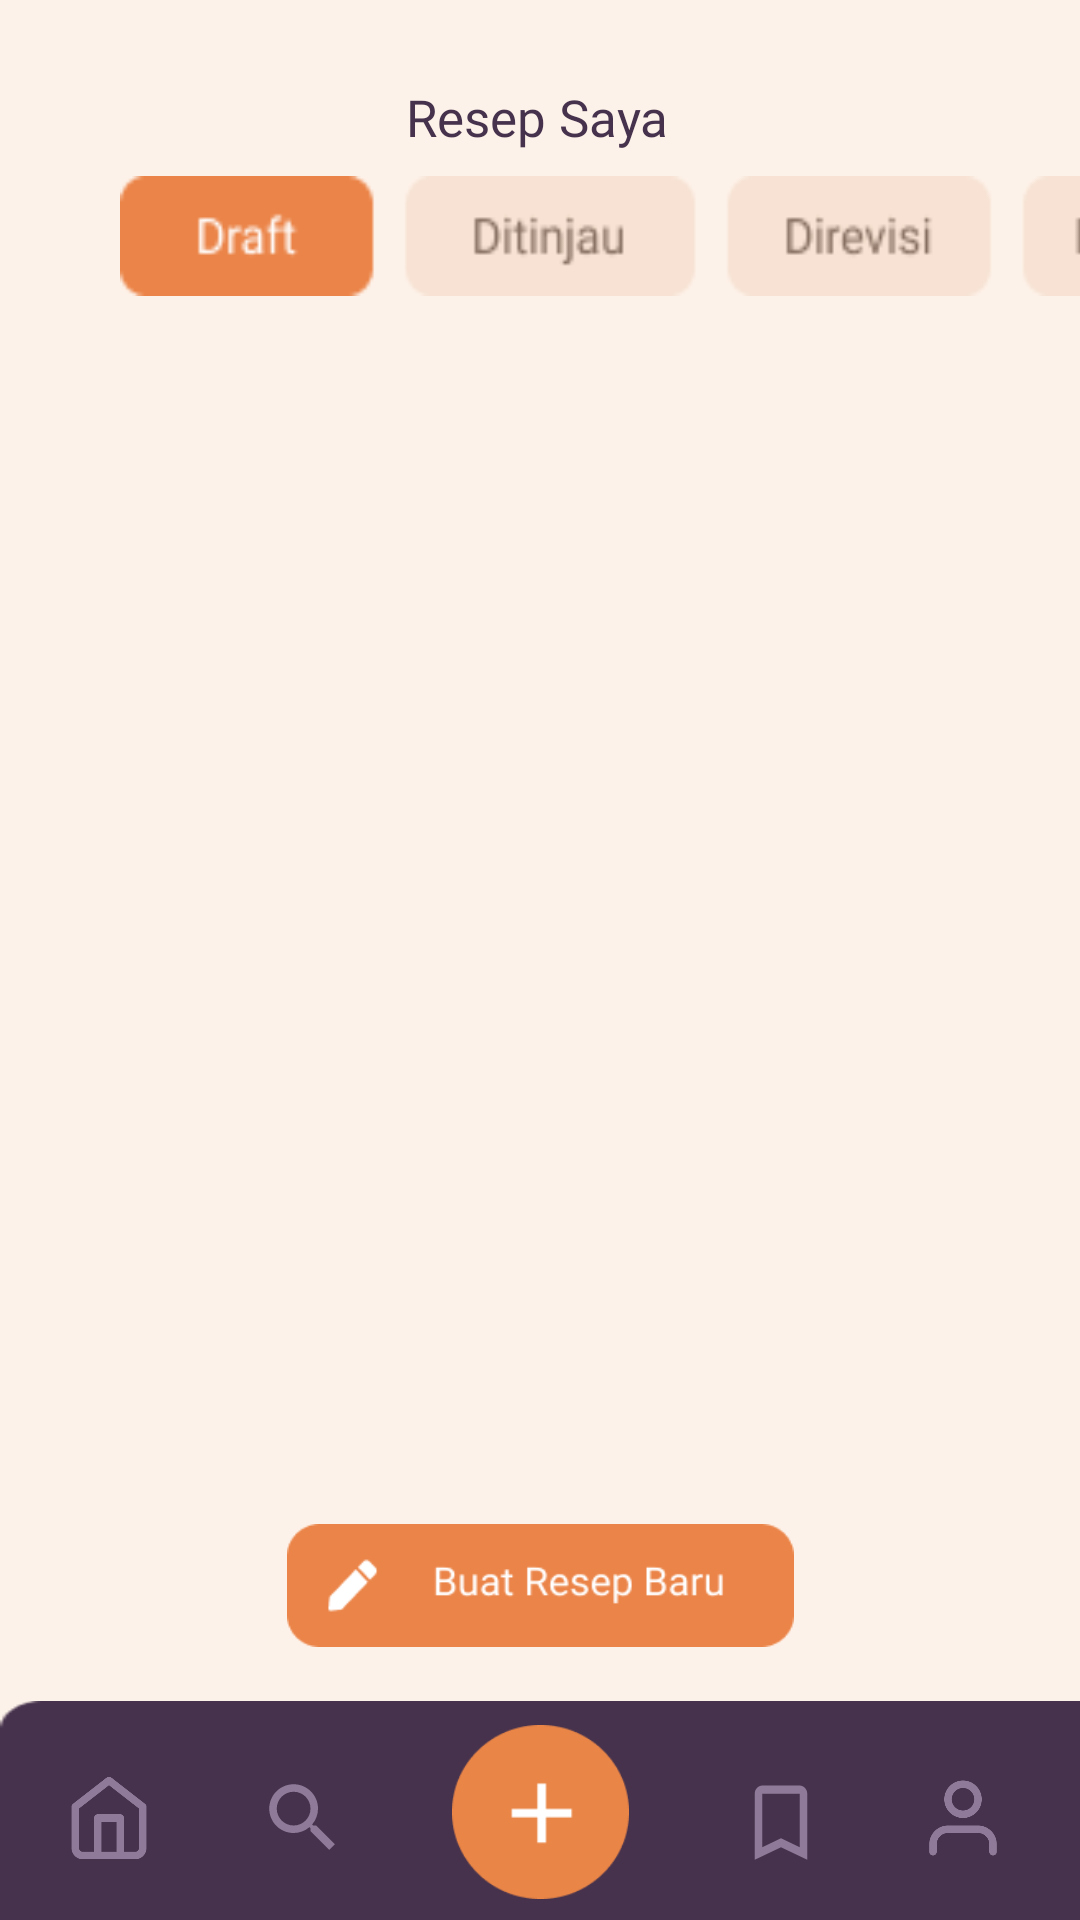

Where to tap for icons on this 1080px x 1920px app screen, as (x=x, y=y):
bookmark border: (x=781, y=1822)
homee: (x=109, y=1818)
search: (x=302, y=1817)
user: (x=963, y=1818)
